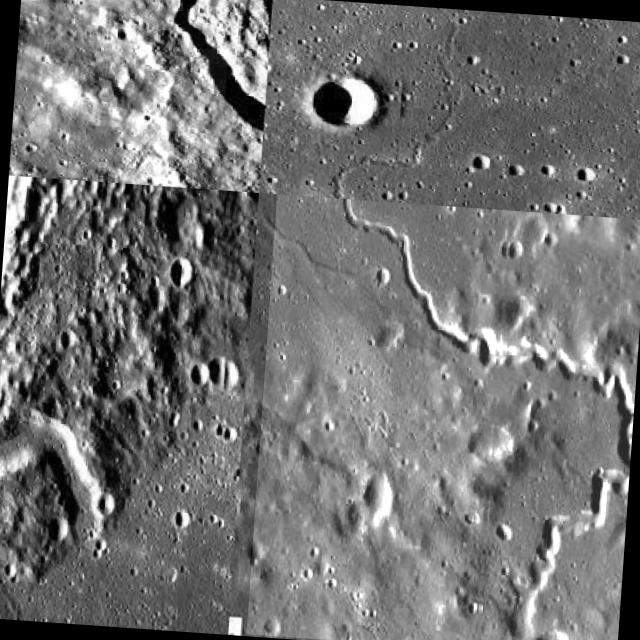crater: (247, 193, 640, 640), (11, 36, 229, 188), (331, 1, 472, 204)
